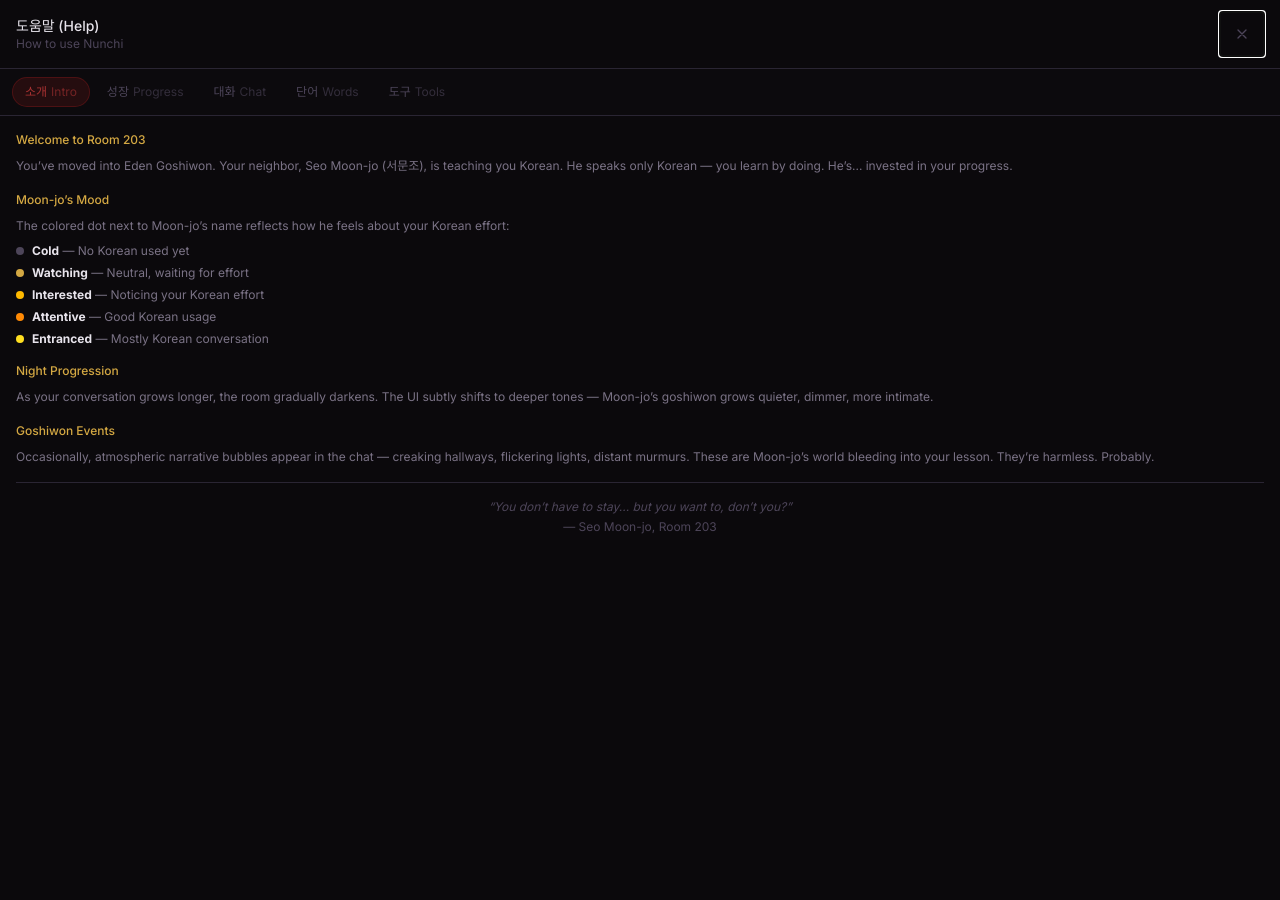
Test: HelpModal › shows Progress tab when clicked
Click the button "성장" at (145, 92), box [94, 77, 196, 107]
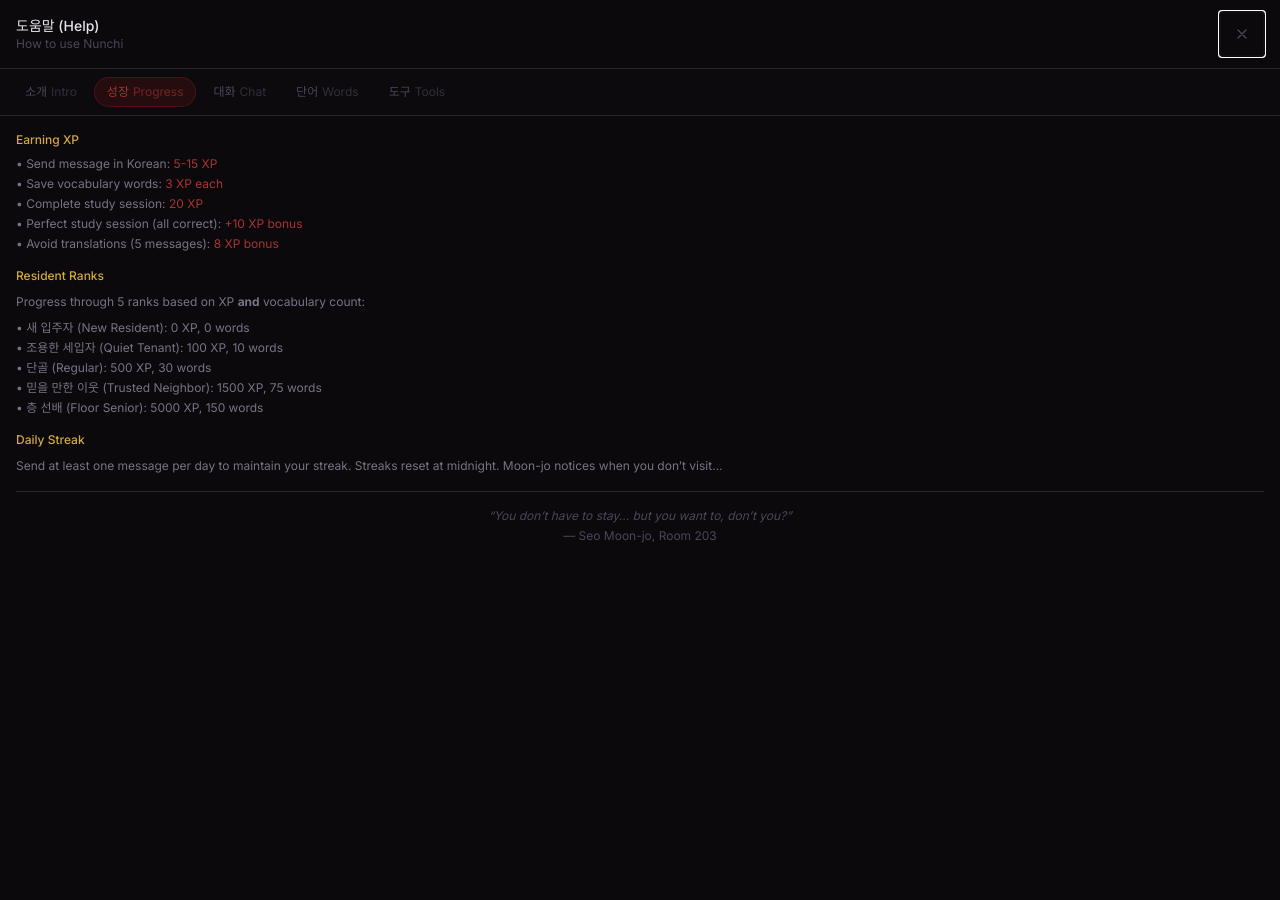
Check: the heading "Earning XP" is shown, box [16, 132, 79, 147]
Check: the text "5-15 XP" is shown, box [174, 156, 217, 171]
Check: the heading "Resident Ranks" is shown, box [16, 268, 104, 283]
